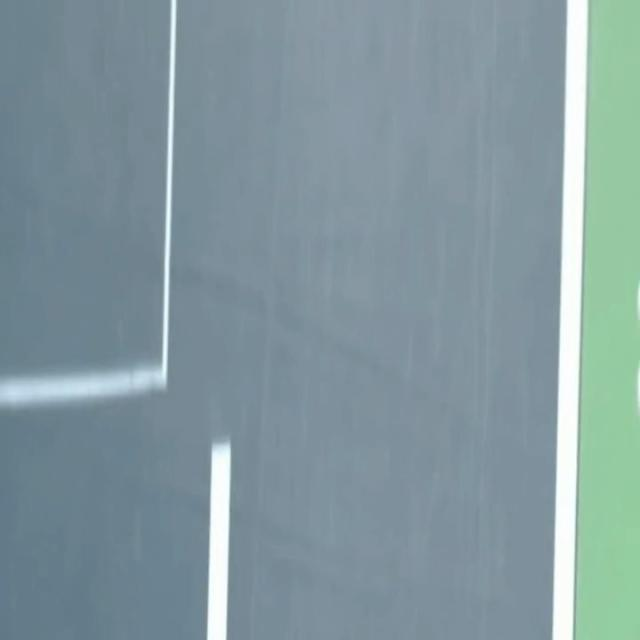center: (206, 442, 231, 639)
right: (552, 0, 588, 639)
